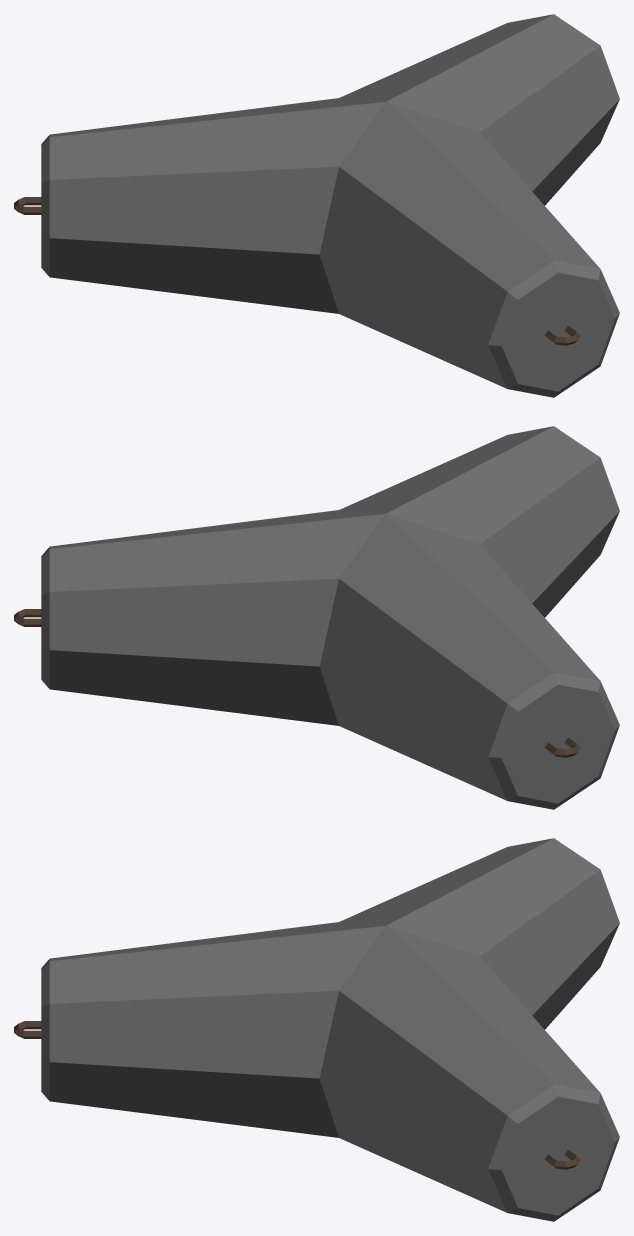
Rendered from SM_Envr_Seawall_RipRap_02.fbx.
3 renders of one model, top to bottom at view 1: azimuth 30°, elevation 25°; view 2: azimuth 150°, elevation 25°; view 3: azimuth 270°, elevation 25°, orthographic.
Parts seen in each view (by area): view 1: SM_Envr_Seawall_RipRap_02; view 2: SM_Envr_Seawall_RipRap_02; view 3: SM_Envr_Seawall_RipRap_02.
Boxes of the visible parts, x1,y1,x2,y2 form: SM_Envr_Seawall_RipRap_02: (14,14,619,397); SM_Envr_Seawall_RipRap_02: (14,426,619,809); SM_Envr_Seawall_RipRap_02: (14,838,619,1221).
Size of the model in its own units: 346 by 120 by 316.
